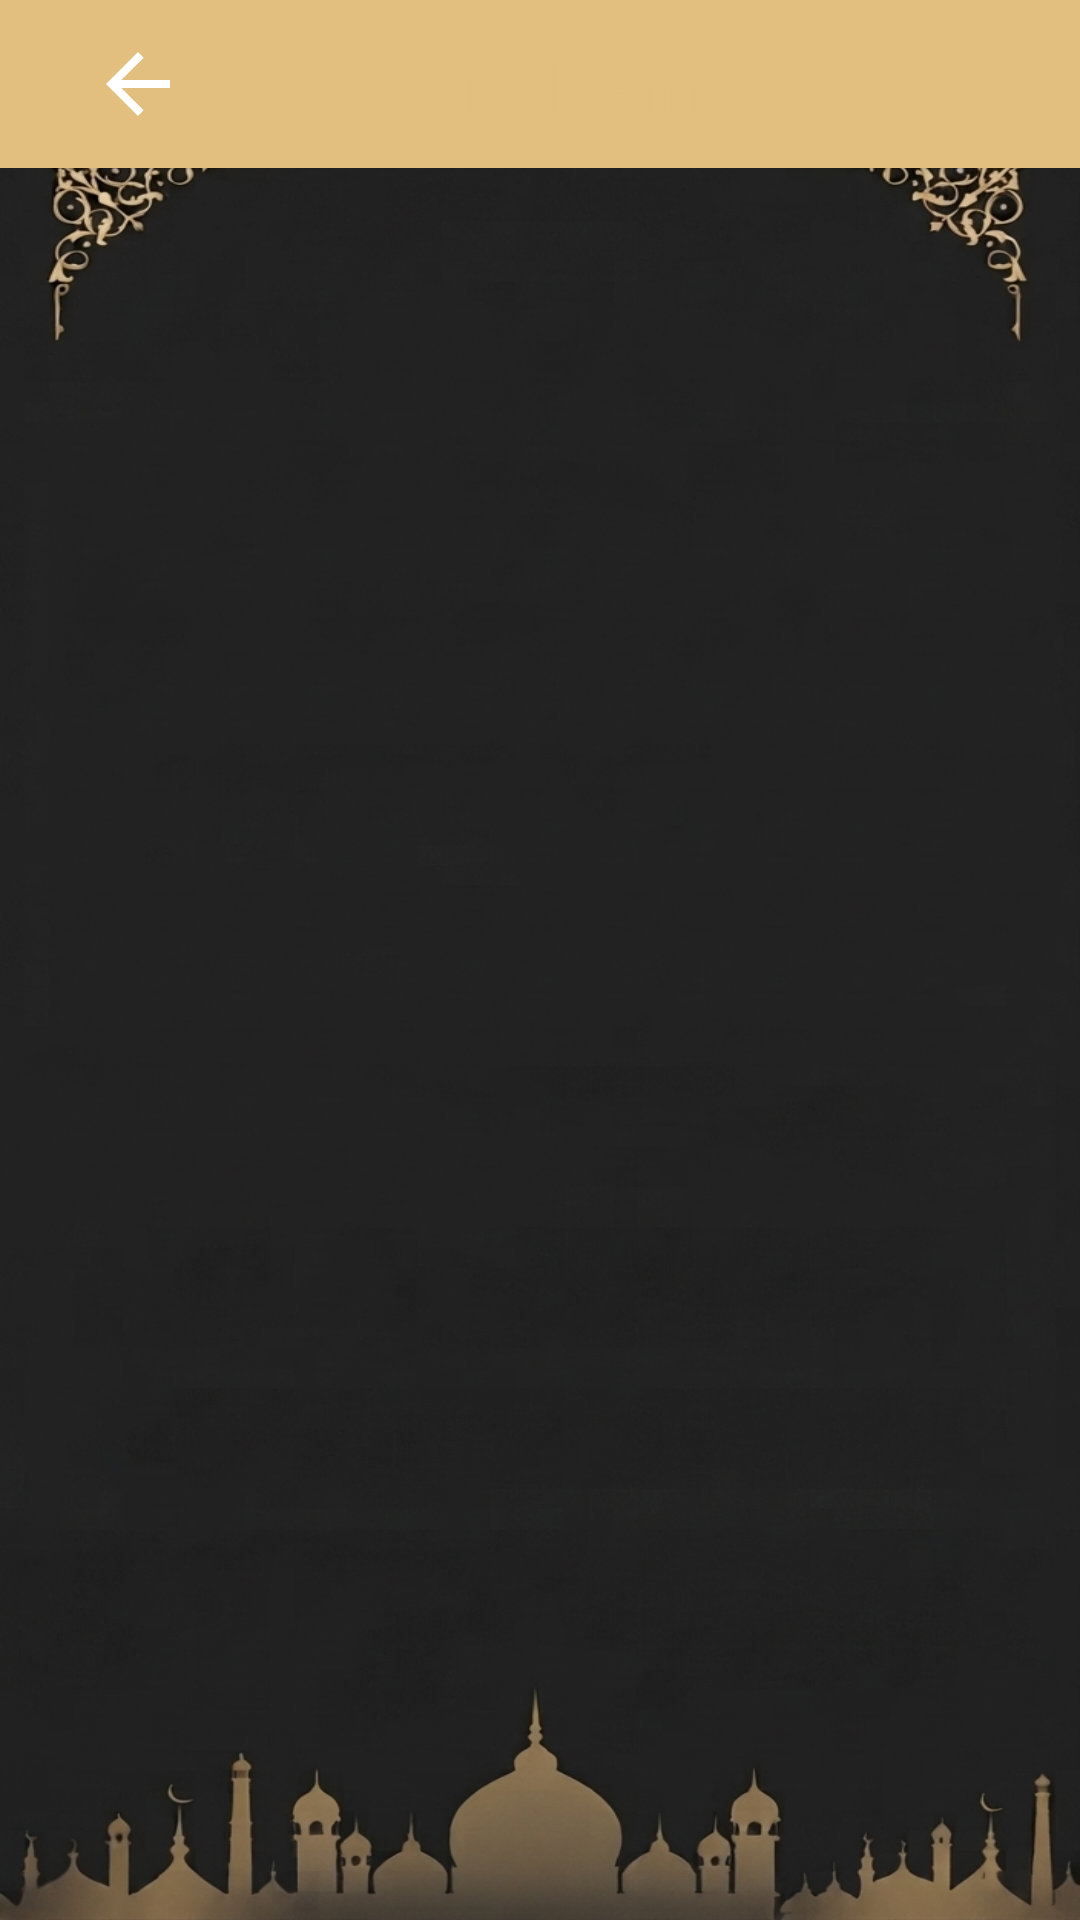

Named icons in this screenshot (1080w x 1920h) and their bounding boxes, [x1,y1,x2,y2]:
رجوع: [106,52,170,116]
